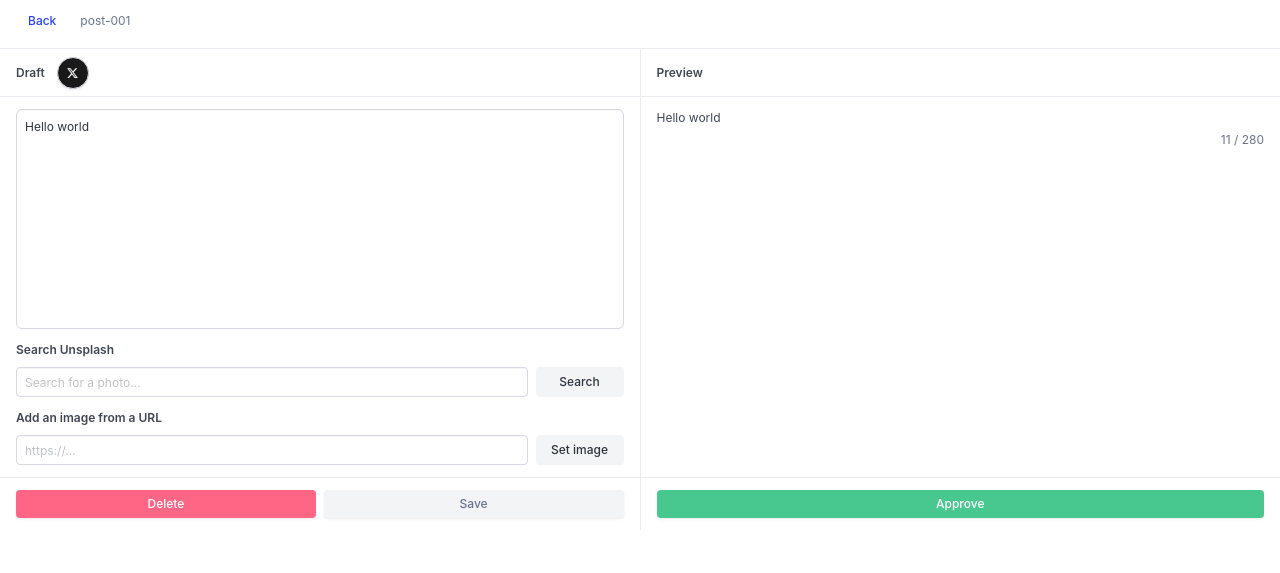
Test: EditPostView — Save › shows error when save_post_draft fails
Replace the text in the text box named "post content" with "changed" at (320, 219), box [16,109,624,329]
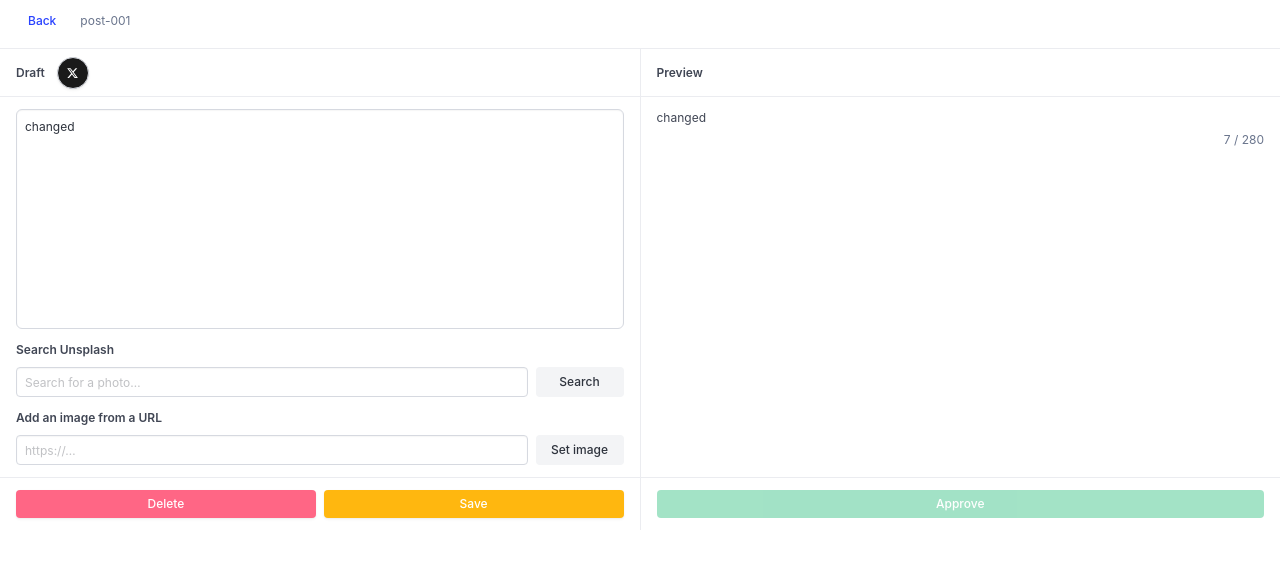
Click the button "Save" at (474, 504), box [324,490,624,518]
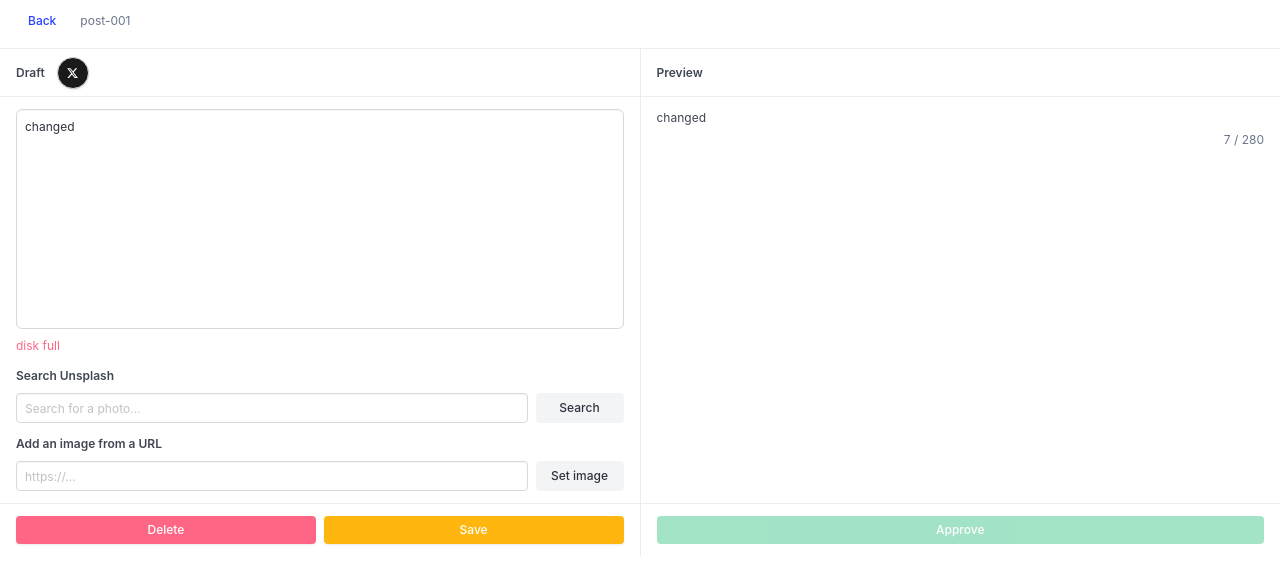
Expected: the message "disk full" is shown, [16,338,60,353]
